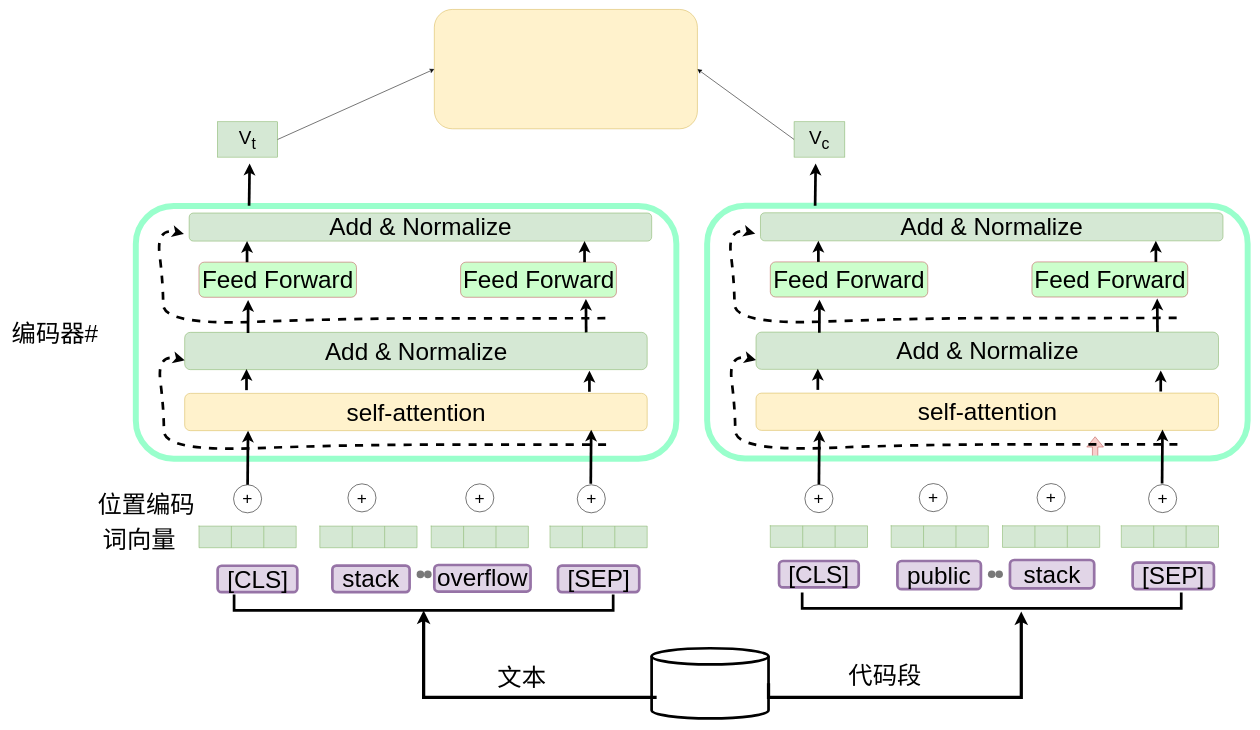
The diagram is 1260 pixels wide and 730 high, and some of its shapes have lost their labels. The shapes that lost their labels are listed below. From the top down, each one's centre as x and y in pixels, then its label:
(565,69): 相关性得分 = Cos(V t,Vc)
(710,683): MIX dataset
